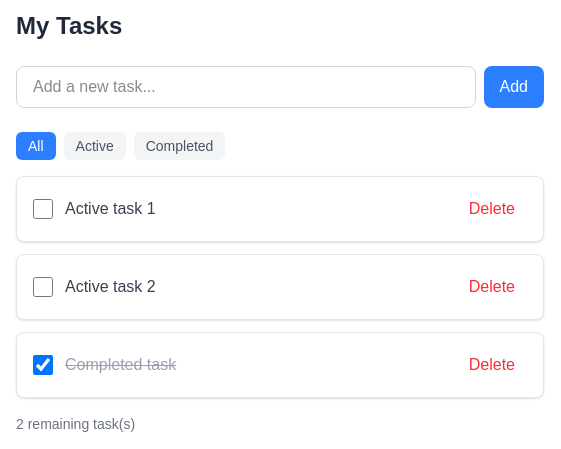
Test: TODOApp › Filtering tasks › shows only completed tasks when Completed filter is selected
Click the button "Completed".
click(180, 146)  # box [134,132,225,160]
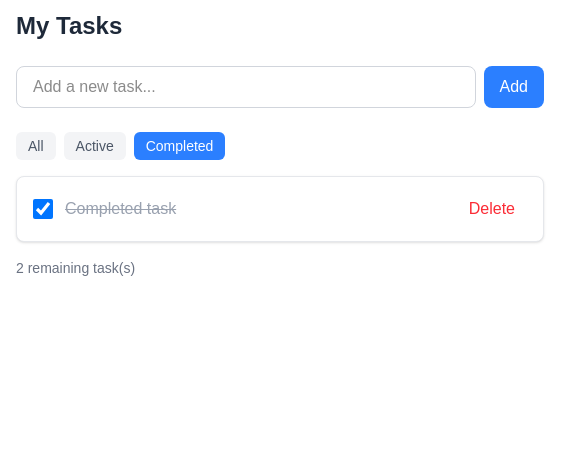
Expected: the text "Completed task" is shown, [65,200,176,217]
Now the text "Active task 1" is gone
Now the text "Active task 2" is gone
